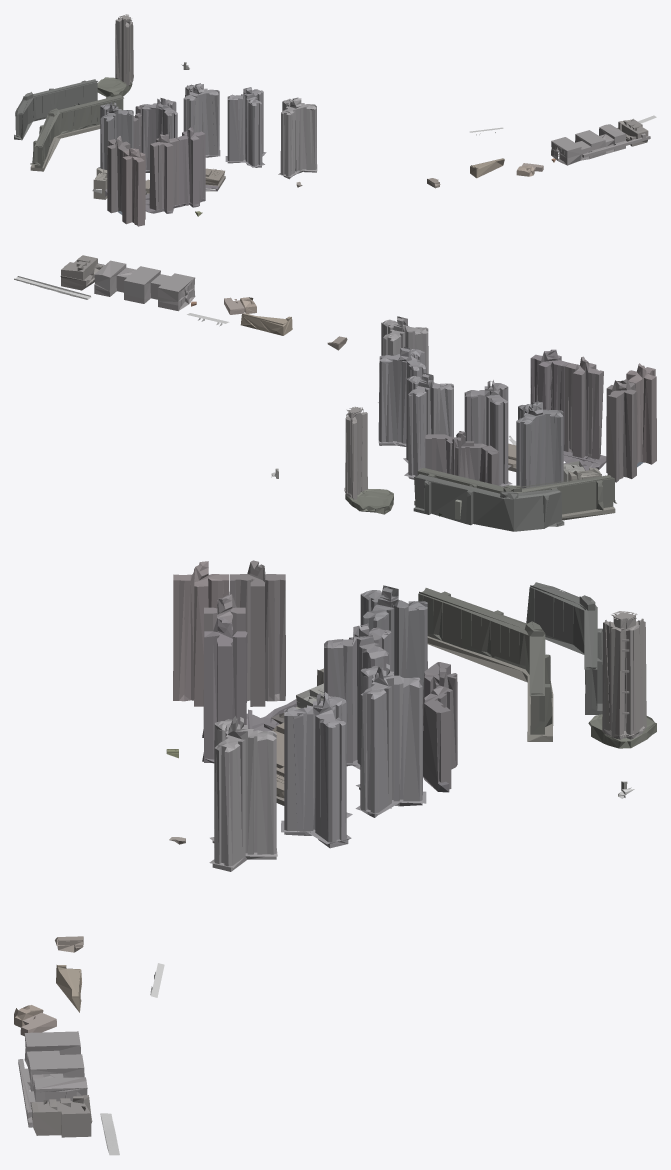
3 views of the same model, one above another, from view 1: azimuth 30°, elevation 25°; view 2: azimuth 150°, elevation 25°; view 3: azimuth 270°, elevation 25° (orthographic). The views are drawn at different scales.
Parts seen in each view (by area): view 1: buildings; view 2: buildings, infrastructure; view 3: buildings, infrastructure.
Boxes of the visible parts, x1=… form: buildings: x1=14, y1=14, x2=650, y2=226; buildings: x1=60, y1=255, x2=656, y2=531; infrastructure: x1=14, y1=276, x2=516, y2=477; buildings: x1=14, y1=560, x2=656, y2=1137; infrastructure: x1=100, y1=787, x2=634, y2=1155.
Bounding box in the file's own units: 857 × 151 × 470.
